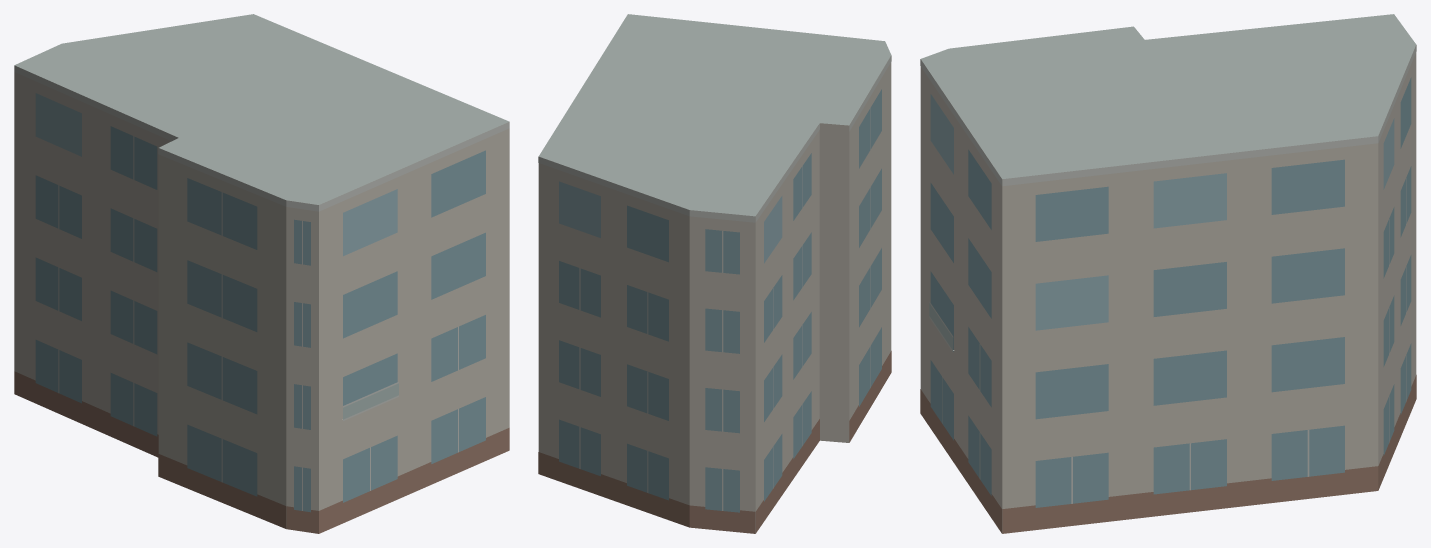
Rendered from survey-upis-32657480.glb.
The picture shows the model from 3 angles, left to right: view 1: azimuth 30°, elevation 25°; view 2: azimuth 150°, elevation 25°; view 3: azimuth 270°, elevation 25°; orthographic projection. The views are drawn at different scales.
Parts seen in each view (by area): view 1: survey-upis-32657480.tmp; view 2: survey-upis-32657480.tmp; view 3: survey-upis-32657480.tmp.
Part boxes in pixels (x1,y1,x2,y2): survey-upis-32657480.tmp: [14, 14, 509, 533]; survey-upis-32657480.tmp: [538, 14, 891, 533]; survey-upis-32657480.tmp: [920, 14, 1416, 533].
Size of the model in its own units: 12.2 by 12.2 by 15.47.
